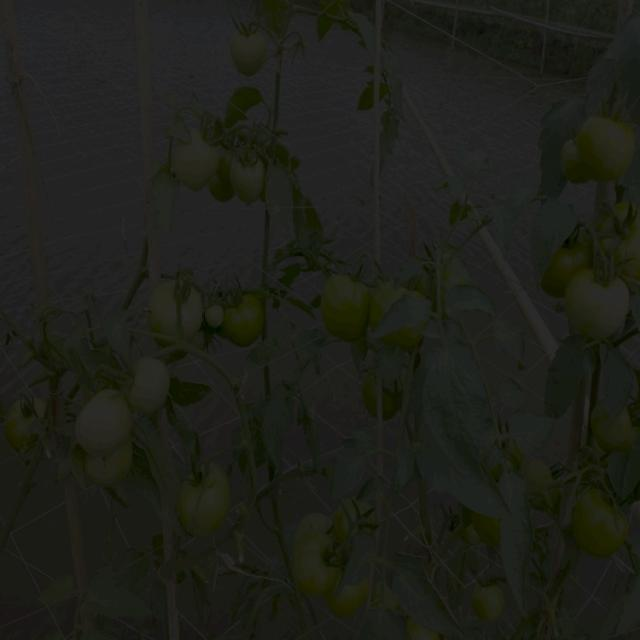tomato: (291, 512, 349, 602), (564, 270, 632, 343), (75, 394, 144, 452), (182, 457, 234, 533), (570, 489, 628, 554), (577, 118, 636, 181), (318, 269, 369, 336), (222, 293, 274, 352), (155, 281, 206, 340), (604, 202, 640, 284), (545, 238, 600, 291), (227, 152, 276, 211), (128, 350, 175, 410), (79, 455, 146, 492), (8, 395, 47, 454), (594, 415, 640, 463), (372, 273, 420, 315), (233, 27, 274, 74), (485, 577, 520, 632), (178, 137, 214, 190), (558, 138, 593, 191), (335, 576, 380, 615), (206, 152, 233, 205), (344, 491, 380, 529), (385, 385, 413, 426), (360, 370, 385, 414), (523, 464, 553, 494), (402, 618, 440, 640), (197, 305, 224, 329)
